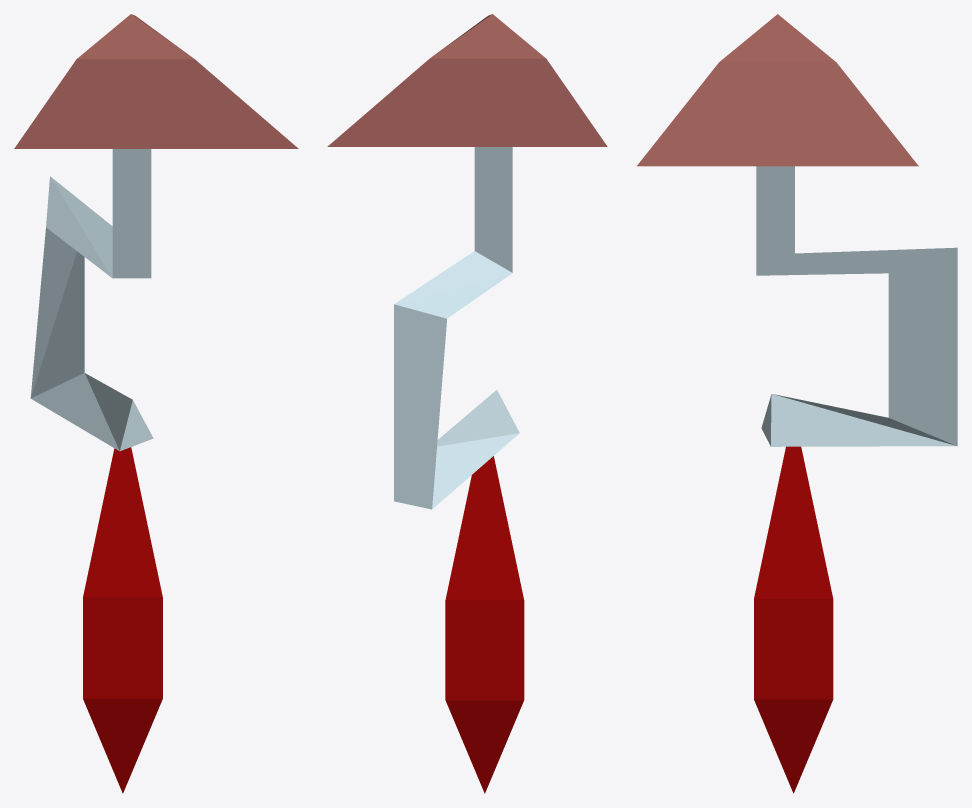
File: Handbohrer_2019.glb
3 views of the same model, side by side, from view 1: azimuth 30°, elevation 25°; view 2: azimuth 150°, elevation 25°; view 3: azimuth 270°, elevation 25° (orthographic).
Parts seen in each view (by area): view 1: pCylinderShape126, pCylinderShape132, pCylinderShape133; view 2: pCylinderShape132, pCylinderShape126, pCylinderShape133; view 3: pCylinderShape132, pCylinderShape126, pCylinderShape133.
Boxes of the visible parts, box(x1,y1,x2,y2) form: pCylinderShape126: box(14, 14, 298, 148); pCylinderShape132: box(30, 149, 153, 451); pCylinderShape133: box(83, 447, 162, 793); pCylinderShape132: box(394, 147, 519, 509); pCylinderShape126: box(327, 14, 607, 146); pCylinderShape133: box(445, 456, 524, 793); pCylinderShape132: box(756, 166, 957, 446); pCylinderShape126: box(637, 14, 918, 166); pCylinderShape133: box(754, 446, 833, 793).
Bounding box in the file's own units: 0.0227 × 0.0797 × 0.0297.
